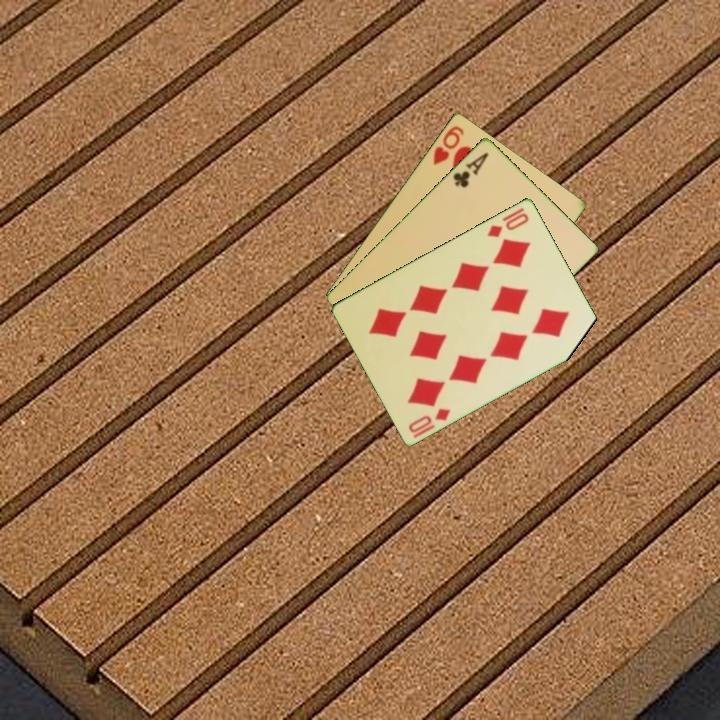10d: (405, 404, 454, 436), (484, 209, 532, 240)
6h: (429, 122, 467, 167)
Ac: (449, 148, 492, 190)
